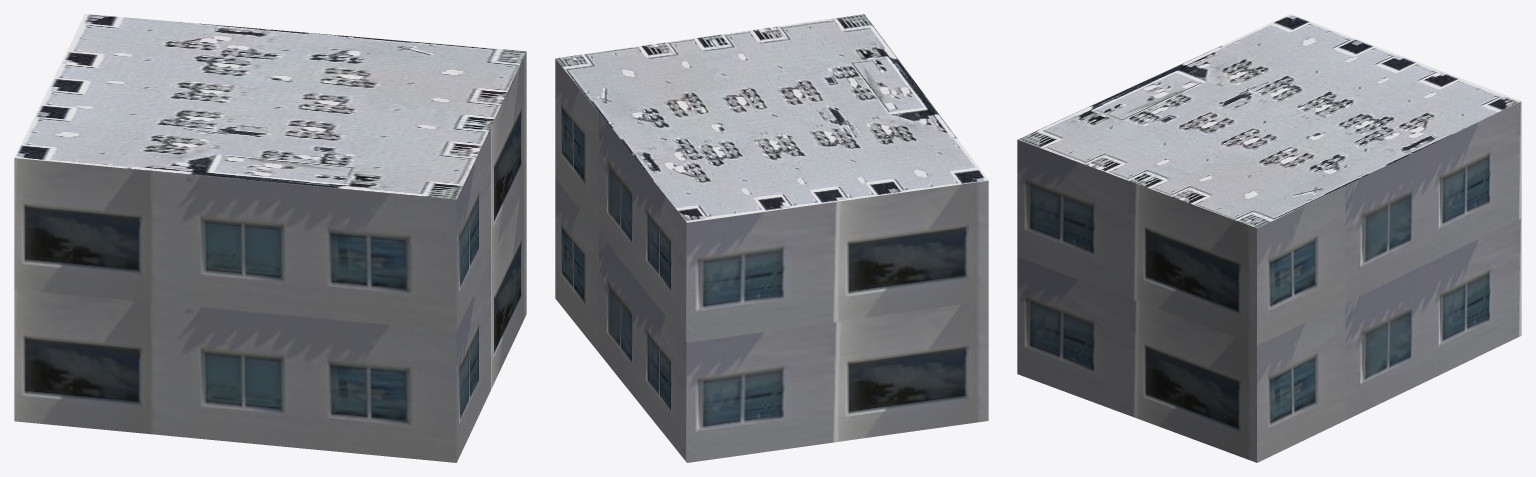
Rendered from ResTex__2531.fbx.
3 views of the same model, side by side, from view 1: azimuth 30°, elevation 25°; view 2: azimuth 150°, elevation 25°; view 3: azimuth 270°, elevation 25° (orthographic). The views are drawn at different scales.
Parts seen in each view (by area): view 1: CityEngineMaterial_10_m, CityEngineMaterial_8_m; view 2: CityEngineMaterial_10_m, CityEngineMaterial_8_m; view 3: CityEngineMaterial_10_m, CityEngineMaterial_8_m.
Part boxes in pixels (box(x1,y1,x2,y2)): CityEngineMaterial_10_m: box(14, 51, 526, 462); CityEngineMaterial_8_m: box(14, 14, 526, 199); CityEngineMaterial_10_m: box(555, 59, 988, 462); CityEngineMaterial_8_m: box(555, 14, 988, 222); CityEngineMaterial_10_m: box(1017, 101, 1521, 462); CityEngineMaterial_8_m: box(1018, 14, 1520, 228).
Bounding box in the file's own units: 11.77 × 6 × 11.69.
2 materials, 2 textured.
